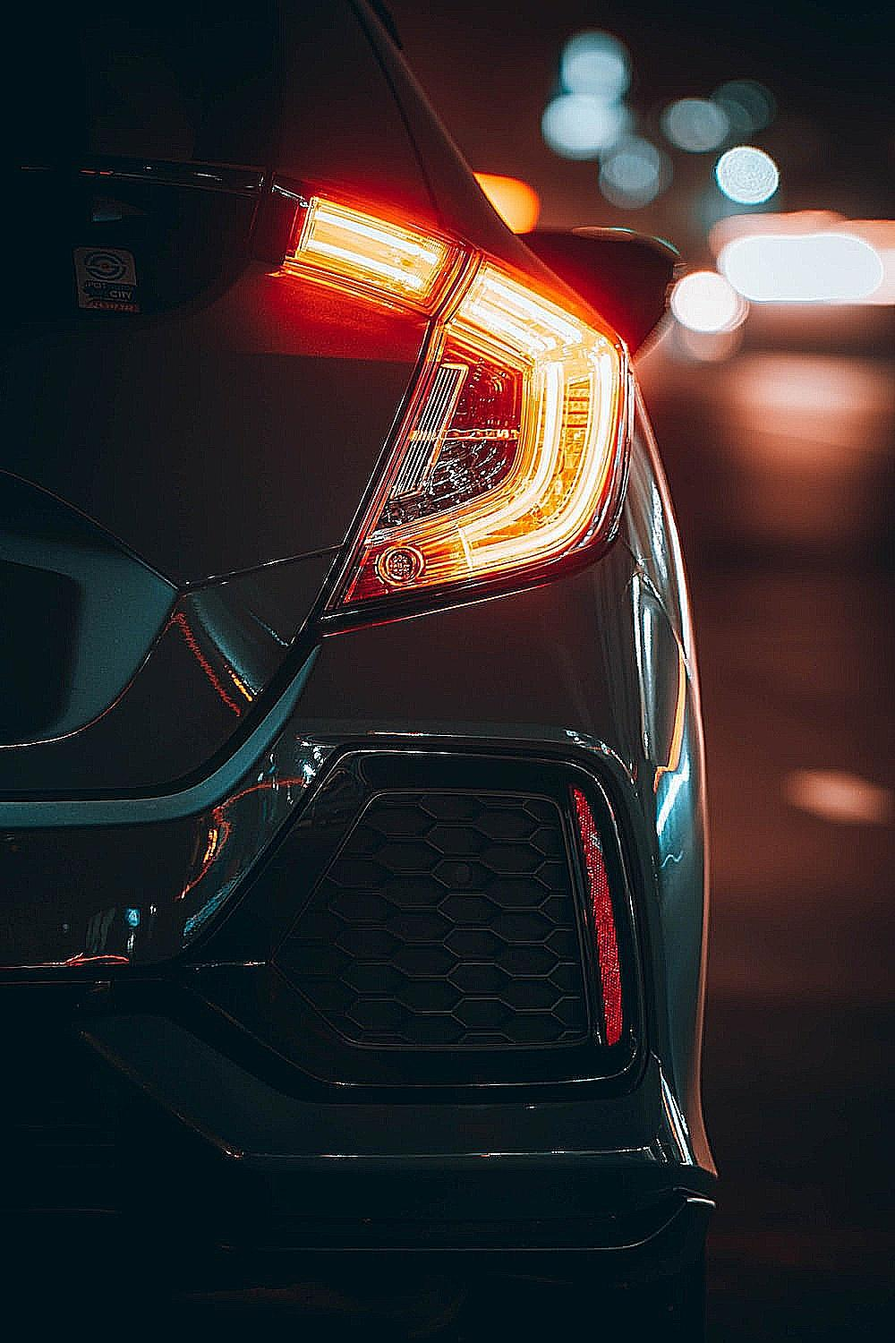Car boot: (0, 135, 488, 833)
Rear bumper: (0, 540, 768, 1307)
Rear light - -R-: (253, 166, 649, 653)
Side mirror - -R-: (515, 197, 701, 385)
